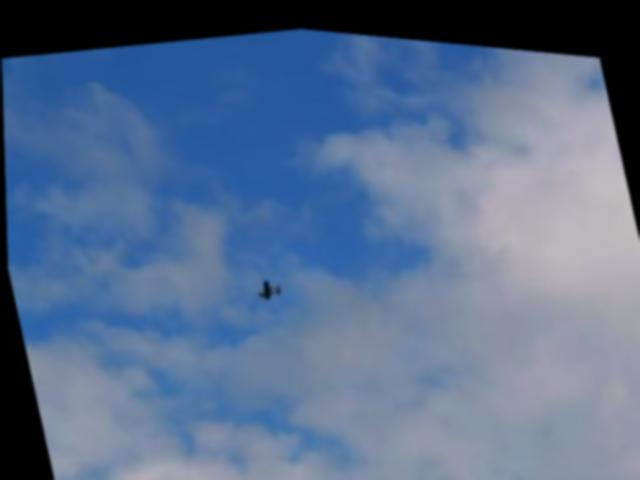uav: (250, 270, 286, 302)
